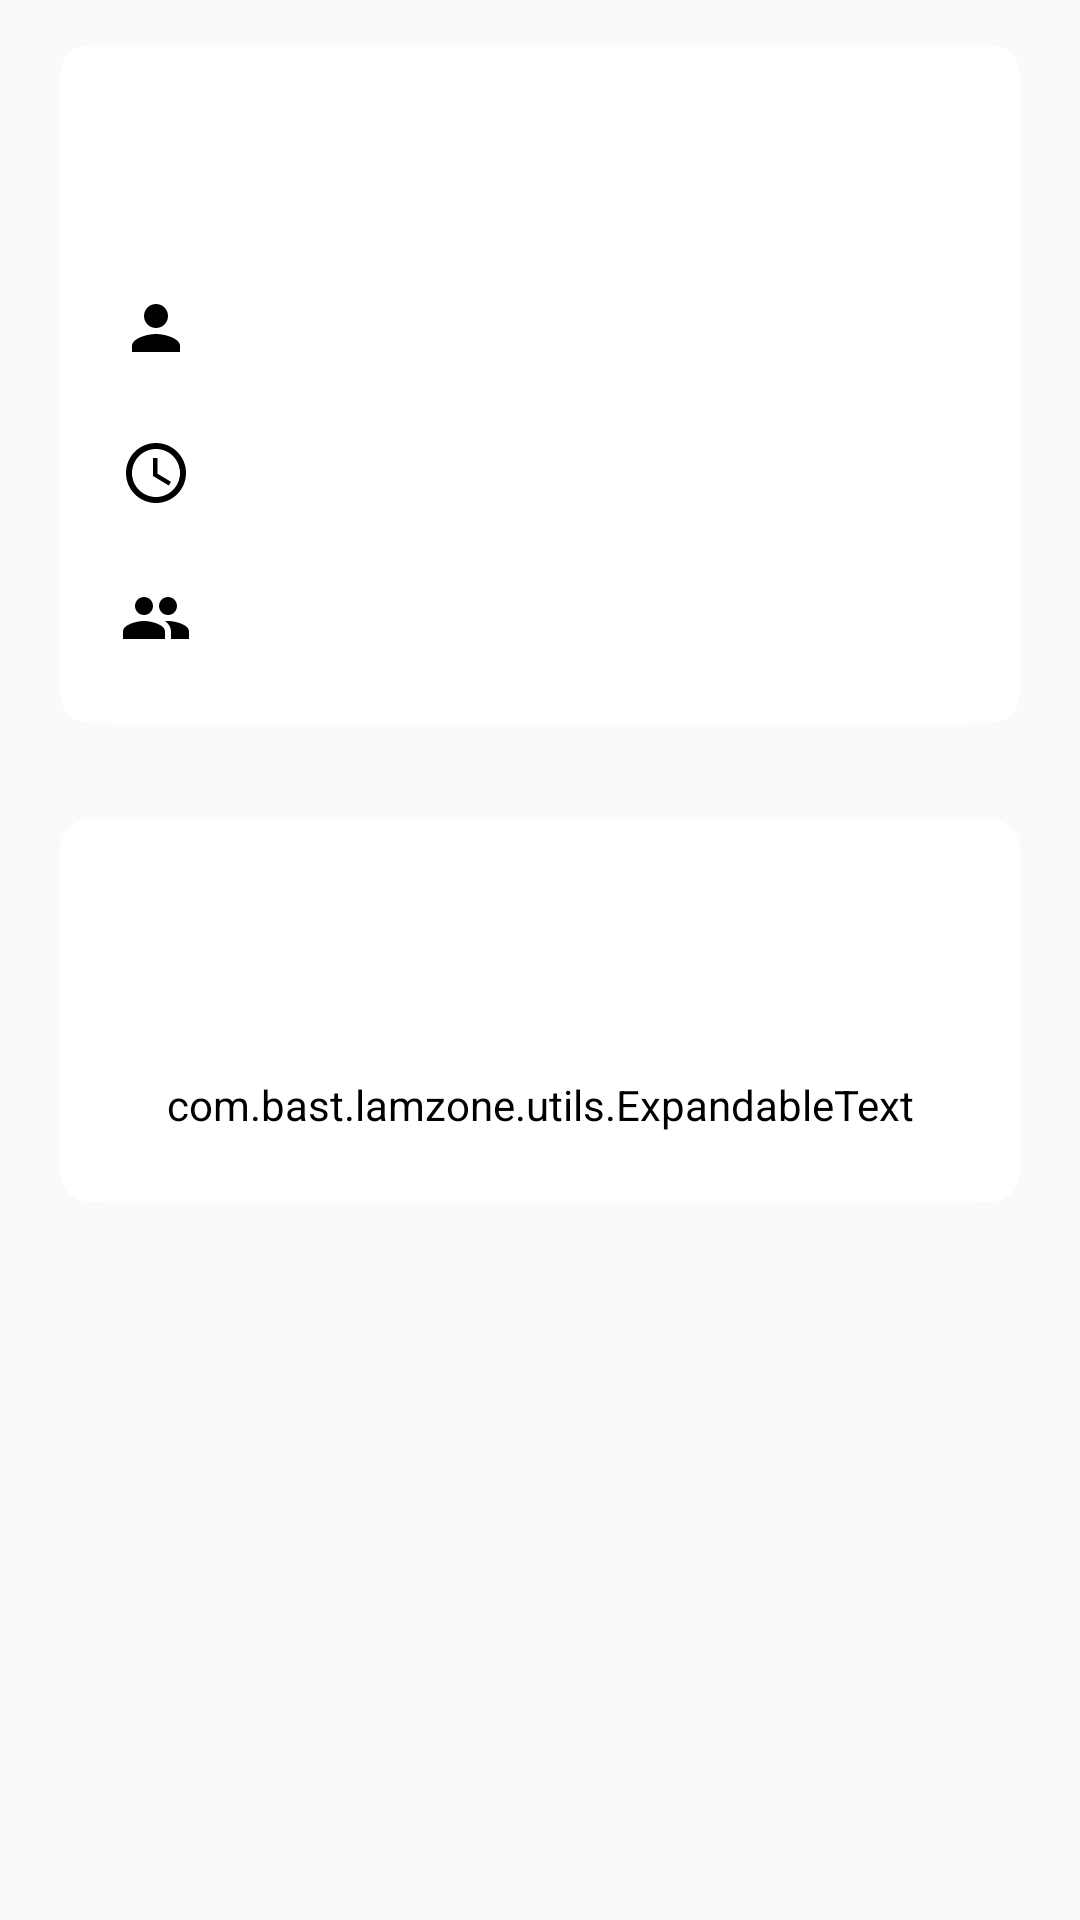

Where icons sit on this 1080 x 1920 app screen, as rect(x1, y1, x2, y2):
access time: rect(126, 443, 186, 503)
person: rect(132, 304, 180, 352)
